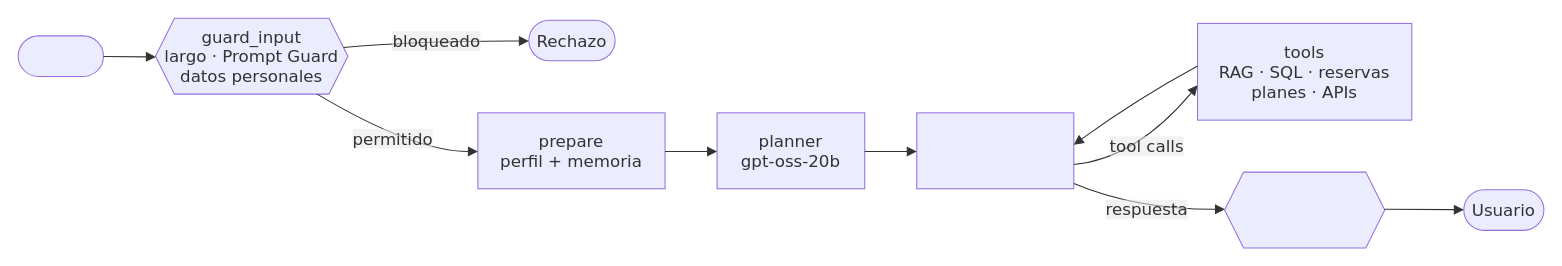
Image size: 1562x266. Some labels were removed from this diagram. The shapes that lost their labels are listed below. From the top down, each one's centre as x and y in pixels, then its label:
At (x=60, y=55): "Mensaje".
At (x=995, y=150): "agent gpt-oss-120b".
At (x=1304, y=209): "guard_output datos personales fuga del prompt".
